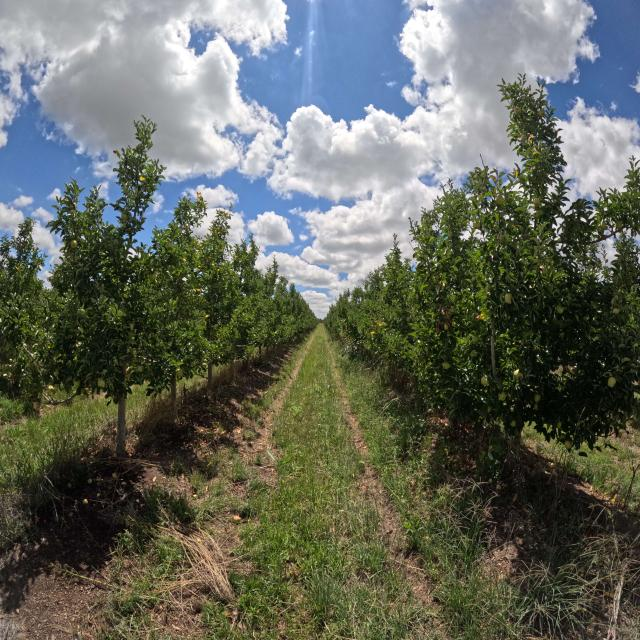-FireBlight-: (435, 309, 453, 332), (447, 299, 453, 306), (437, 306, 442, 312), (436, 297, 441, 301), (442, 307, 444, 314)
